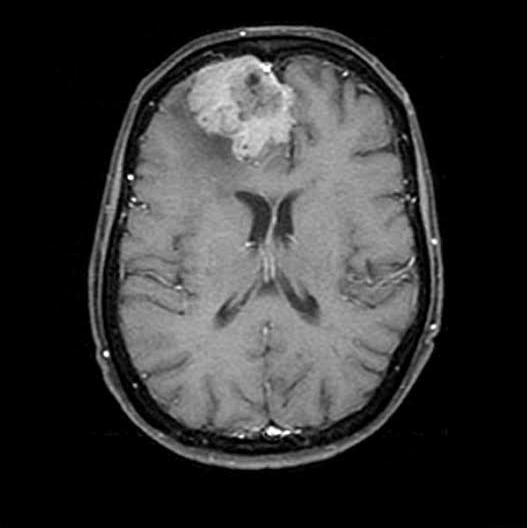Tumour-Meningioma: (175, 55, 312, 189)
